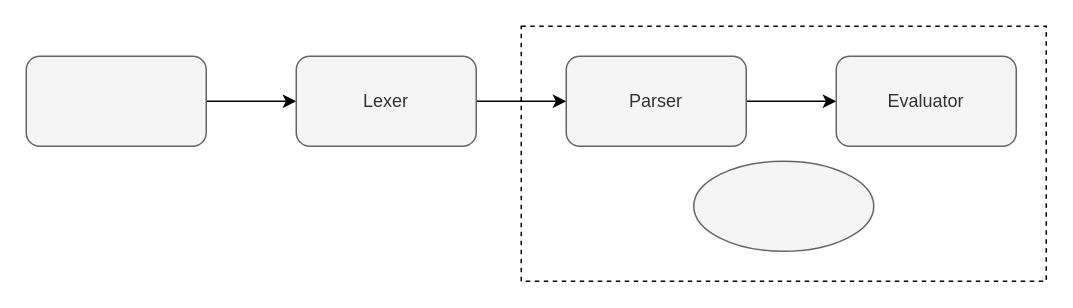
The diagram is 1073 pixels wide and 308 high, and some of its shapes have lost their labels. Here are the shapes that lost their labels. From the top down, the box of each, then its label:
(25, 55, 206, 146): SyntaxChecker
(692, 160, 874, 251): AbstractSyntaxTree
